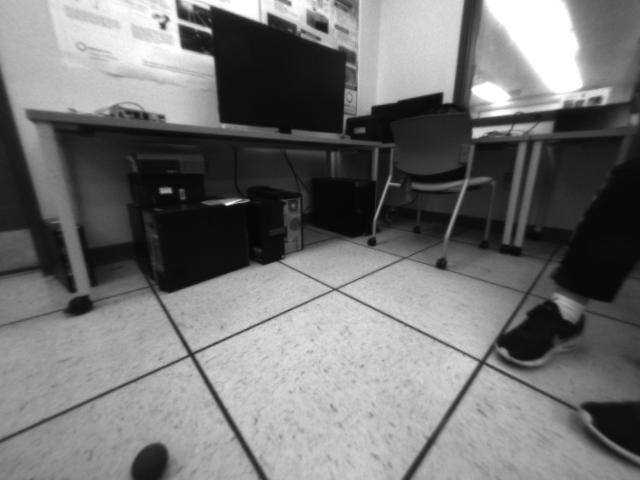dogtoy: (123, 433, 183, 480)
